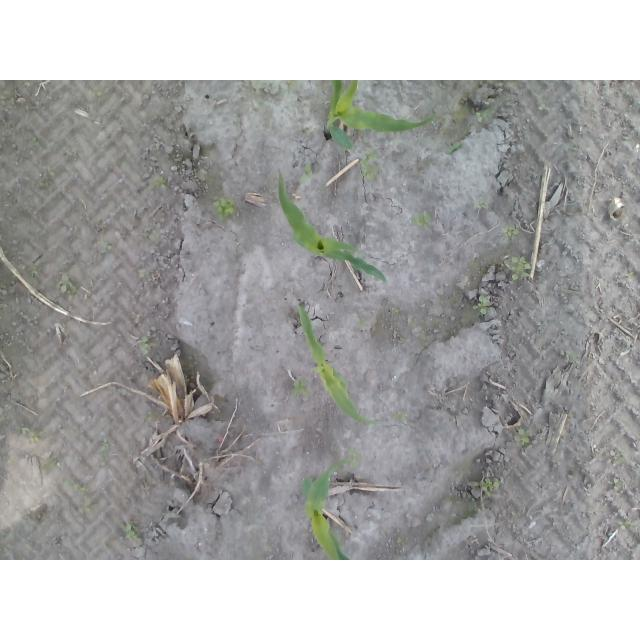Maize: (277, 168, 388, 284), (297, 299, 387, 428), (324, 81, 437, 148), (297, 453, 351, 560)
Weeds: (252, 80, 280, 112), (360, 148, 380, 184), (510, 252, 535, 280), (472, 294, 494, 320), (411, 208, 434, 231), (212, 198, 236, 219), (120, 523, 144, 542), (17, 424, 39, 443), (447, 102, 466, 124), (479, 476, 501, 492), (59, 271, 74, 293), (63, 479, 88, 492), (137, 333, 151, 355), (298, 164, 313, 184), (349, 447, 362, 470), (152, 175, 169, 192), (99, 439, 110, 465), (500, 225, 519, 240), (393, 411, 411, 426), (606, 449, 619, 468), (293, 376, 307, 393), (517, 427, 530, 445), (32, 263, 41, 289), (473, 111, 488, 125), (47, 455, 62, 469), (96, 239, 113, 251), (351, 319, 369, 330), (612, 476, 623, 493), (474, 199, 489, 210), (90, 87, 105, 98), (566, 349, 577, 363), (617, 521, 632, 531), (448, 143, 461, 154), (31, 137, 42, 150), (45, 165, 55, 178), (143, 411, 153, 422), (285, 80, 296, 88), (390, 308, 402, 315), (627, 270, 635, 278)
